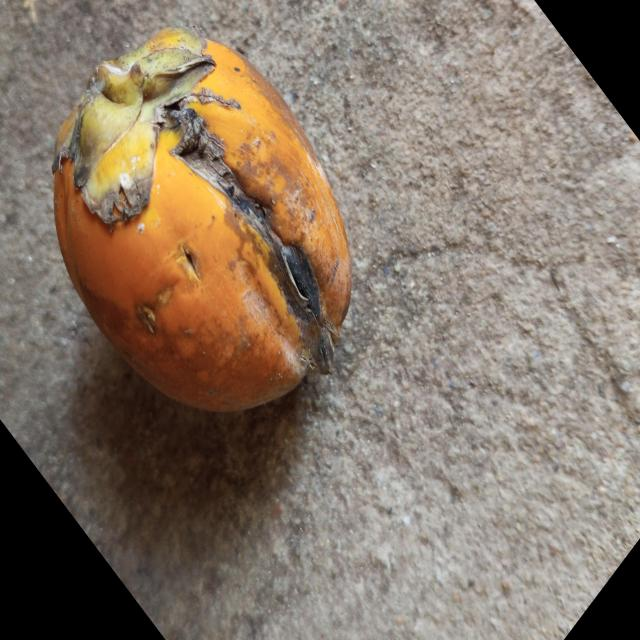damaged: (52, 28, 351, 411)
